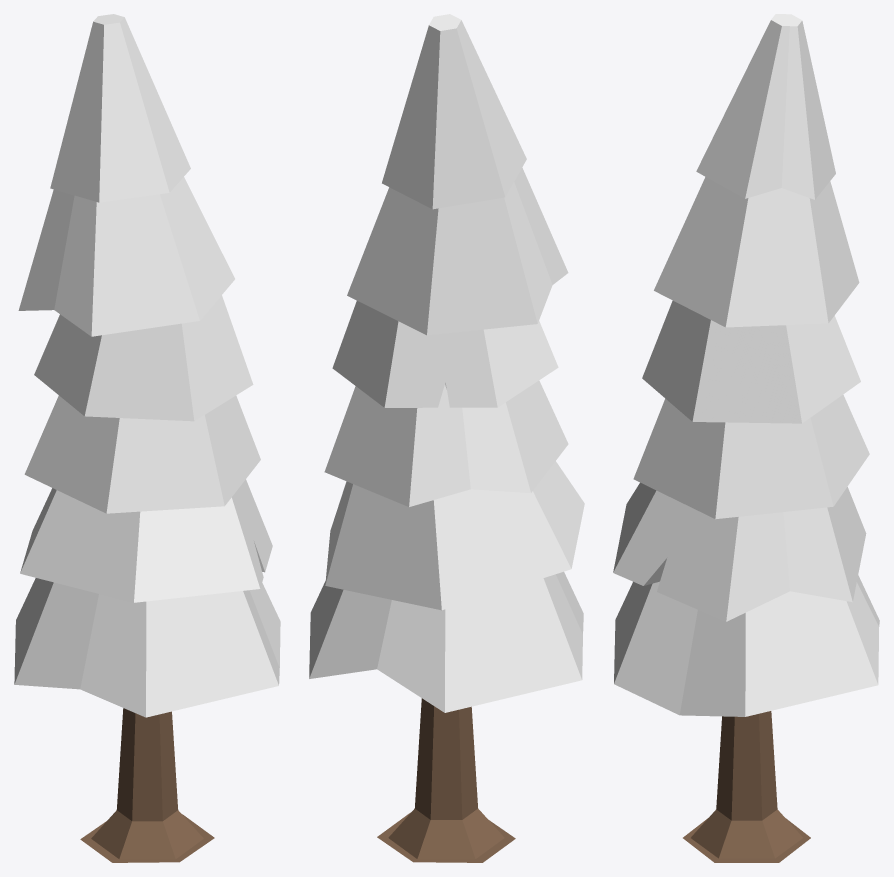
File: tree 12.fbx
3 renders of one model, left to right at view 1: azimuth 30°, elevation 25°; view 2: azimuth 150°, elevation 25°; view 3: azimuth 270°, elevation 25°, orthographic. The views are drawn at different scales.
Visible parts, largest first — view 1: Tree 12; view 2: Tree 12; view 3: Tree 12.
Part boxes in pixels (box(x1,y1,x2,y2)): Tree 12: box(14, 14, 280, 862); Tree 12: box(309, 14, 584, 862); Tree 12: box(613, 14, 879, 862).
Bounding box in the file's own units: 237 × 695 × 207.
Materials: 1 (1 with a texture image).
